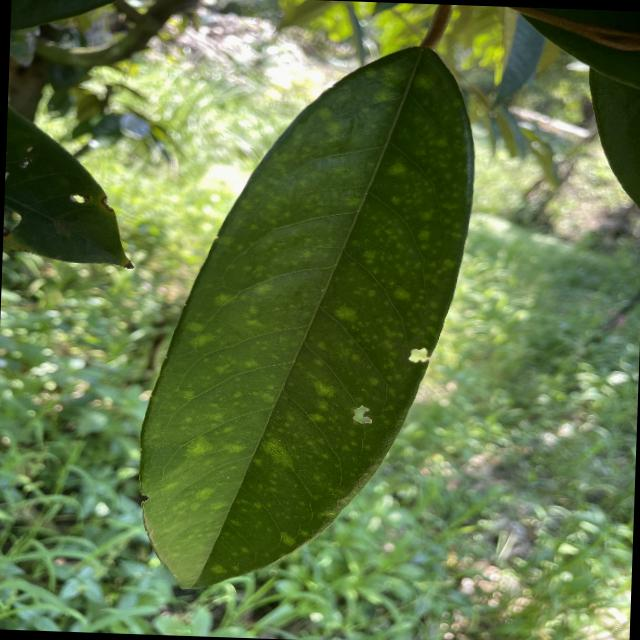Leaf Spot: (129, 27, 487, 617)
